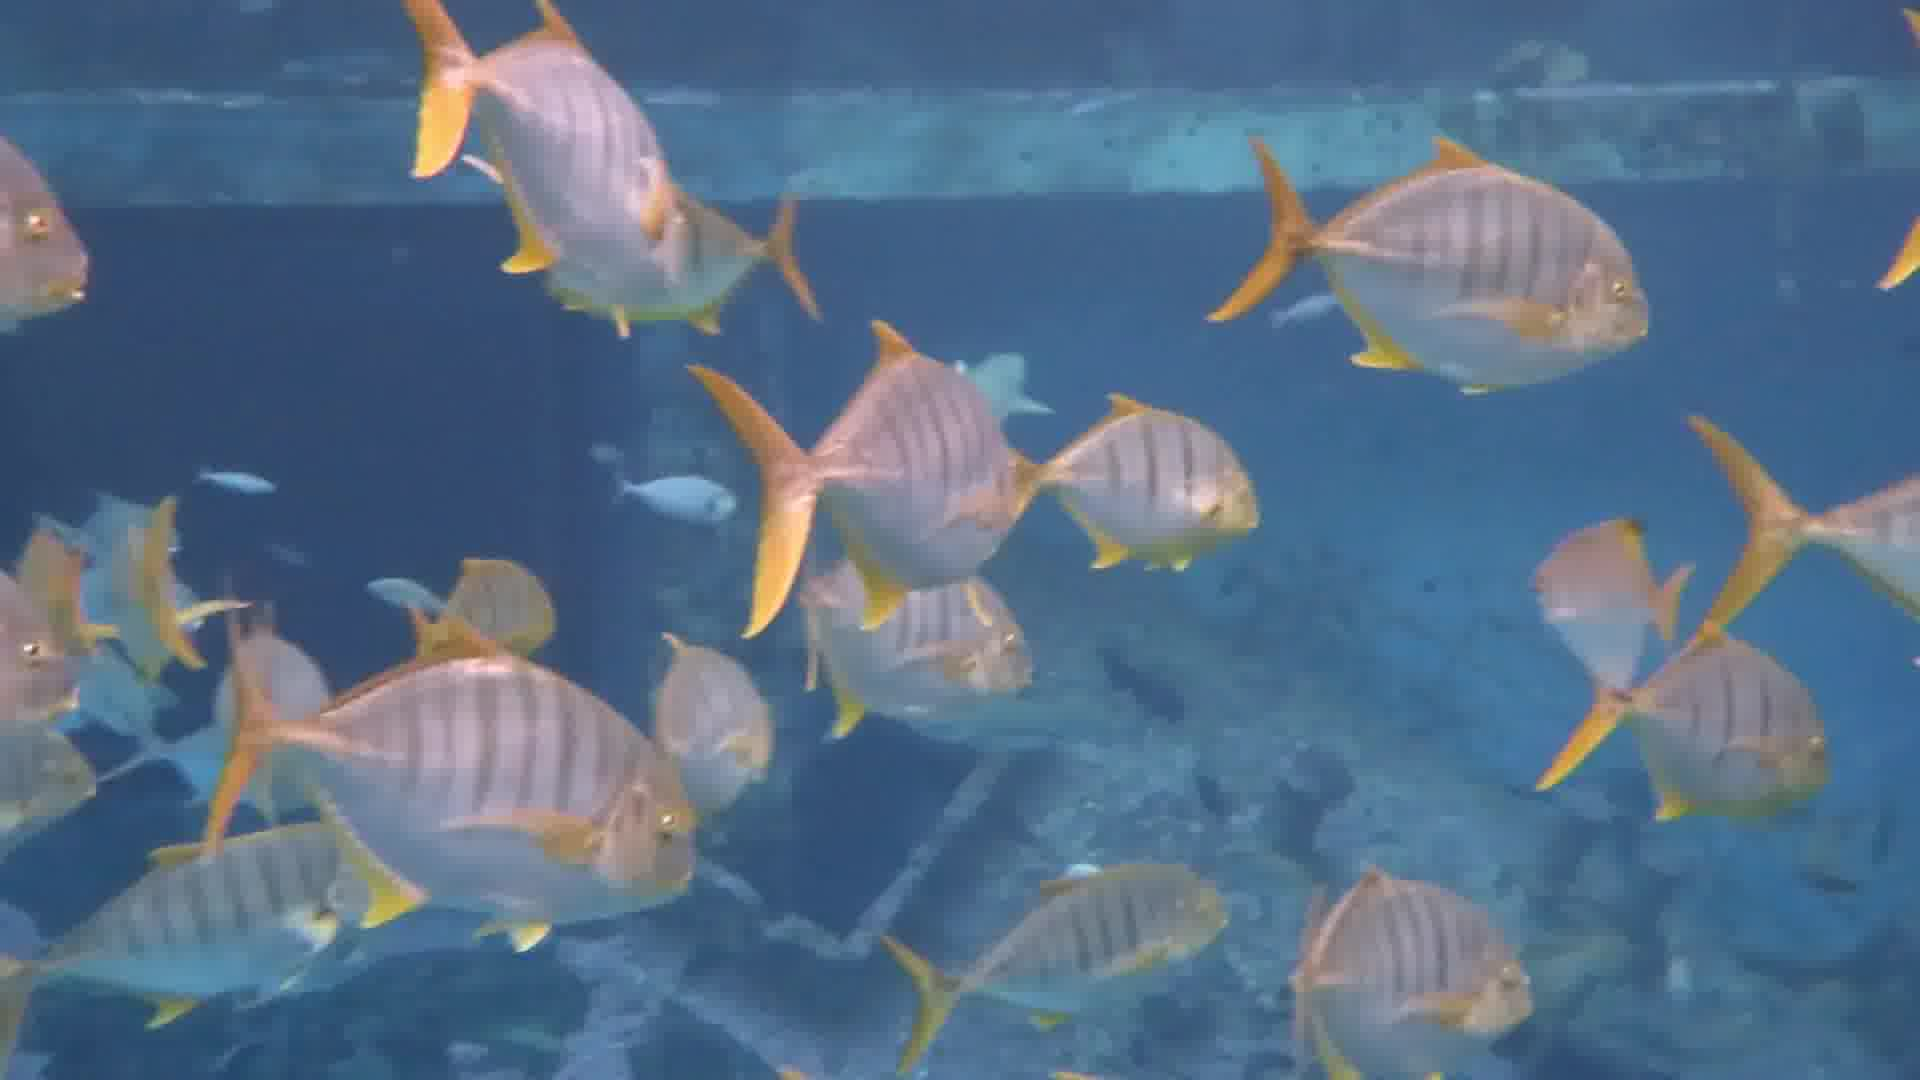Gnathanodon speciosus: (218, 632, 713, 909), (1242, 127, 1658, 390), (732, 349, 1025, 611), (887, 855, 1232, 1033), (1036, 396, 1302, 589), (1592, 629, 1845, 825)
